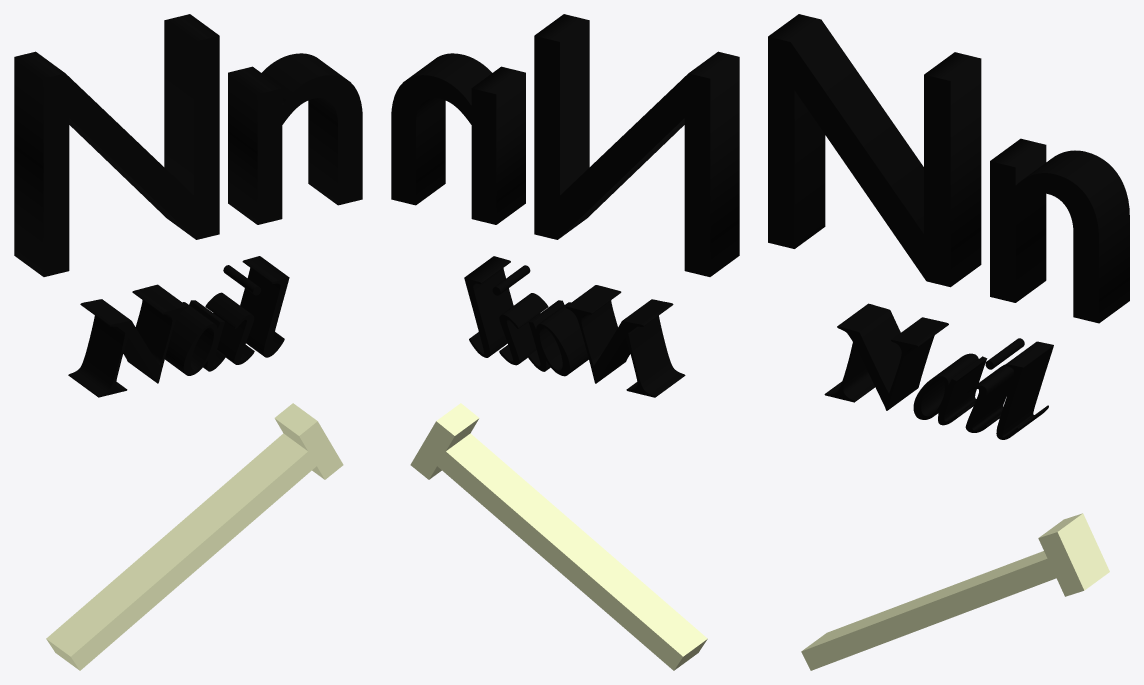
Rendered from Letter_N.glb.
3 renders of one model, left to right at view 1: azimuth 30°, elevation 25°; view 2: azimuth 150°, elevation 25°; view 3: azimuth 330°, elevation 25°, orthographic. The views are drawn at different scales.
Visible parts, largest first — view 1: Text, Text.001, Cube.001, Cube.002; view 2: Text, Text.001, Cube.001, Cube.002; view 3: Text, Text.001, Cube.001, Cube.002.
Boxes of the visible parts, x1,y1,x2,y2 form: Text: (14,14,362,276); Text.001: (68,256,289,397); Cube.001: (46,433,319,670); Cube.002: (274,403,343,479); Text: (391,14,739,276); Text.001: (464,256,685,397); Cube.001: (434,433,707,670); Cube.002: (410,403,479,479); Text: (768,14,1129,323); Text.001: (824,303,1053,439); Cube.001: (801,551,1058,670); Cube.002: (1038,513,1109,596).
Size of the model in its own units: 0.7454 by 1.35 by 0.1205.
